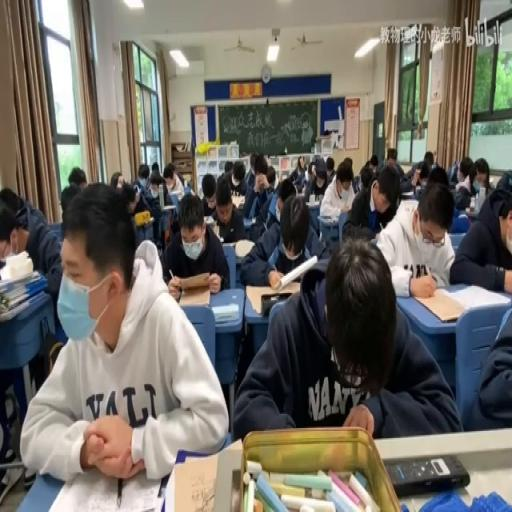calculator: (44, 462, 162, 512), (171, 451, 223, 512), (244, 282, 301, 314), (0, 288, 45, 322), (0, 266, 40, 294), (176, 283, 209, 304), (212, 302, 238, 324), (234, 238, 256, 258), (134, 209, 152, 225), (249, 194, 260, 220), (230, 193, 245, 209), (318, 214, 338, 224), (242, 214, 256, 228), (464, 208, 480, 220), (210, 220, 219, 238), (306, 195, 320, 206), (202, 214, 216, 224), (219, 239, 235, 247), (400, 191, 414, 199), (341, 202, 350, 212), (162, 204, 175, 210), (218, 236, 224, 242)
paper: (234, 235, 456, 442), (0, 180, 62, 490), (376, 176, 456, 294), (236, 183, 326, 283), (462, 286, 512, 432), (162, 192, 228, 294), (341, 180, 376, 234), (0, 195, 27, 260), (450, 157, 478, 209), (146, 166, 174, 209), (198, 171, 218, 222), (223, 157, 246, 199), (118, 180, 138, 218), (359, 152, 380, 185), (398, 164, 422, 192), (288, 153, 307, 185), (60, 183, 79, 215), (350, 224, 377, 242), (276, 179, 294, 206), (426, 164, 448, 186), (67, 165, 87, 188), (494, 171, 512, 195), (137, 162, 150, 189), (473, 162, 488, 184), (422, 151, 434, 172), (266, 164, 276, 188), (248, 150, 258, 174), (109, 171, 122, 189), (325, 156, 334, 180), (306, 160, 316, 178), (343, 156, 354, 170), (386, 148, 396, 163), (149, 161, 159, 175), (393, 162, 402, 176), (293, 180, 302, 194), (352, 174, 359, 192), (182, 182, 191, 193), (414, 184, 422, 196), (365, 158, 371, 168)
person: (386, 452, 470, 496), (230, 468, 242, 510)
